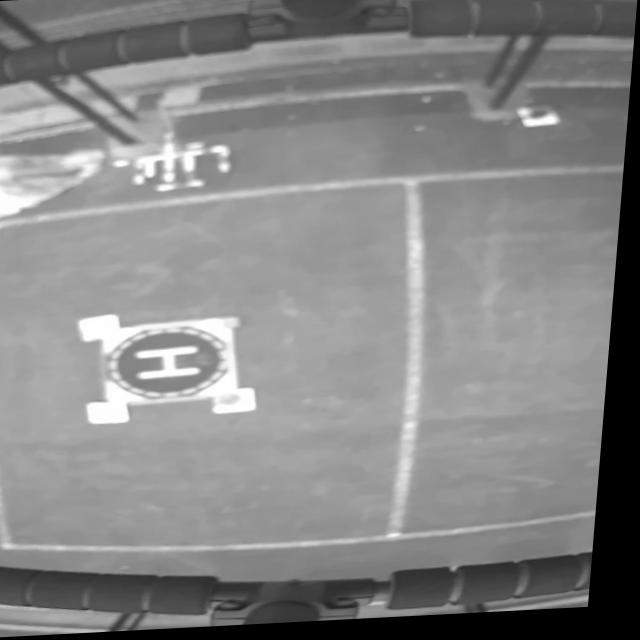Helipad: (141, 347, 206, 381)
